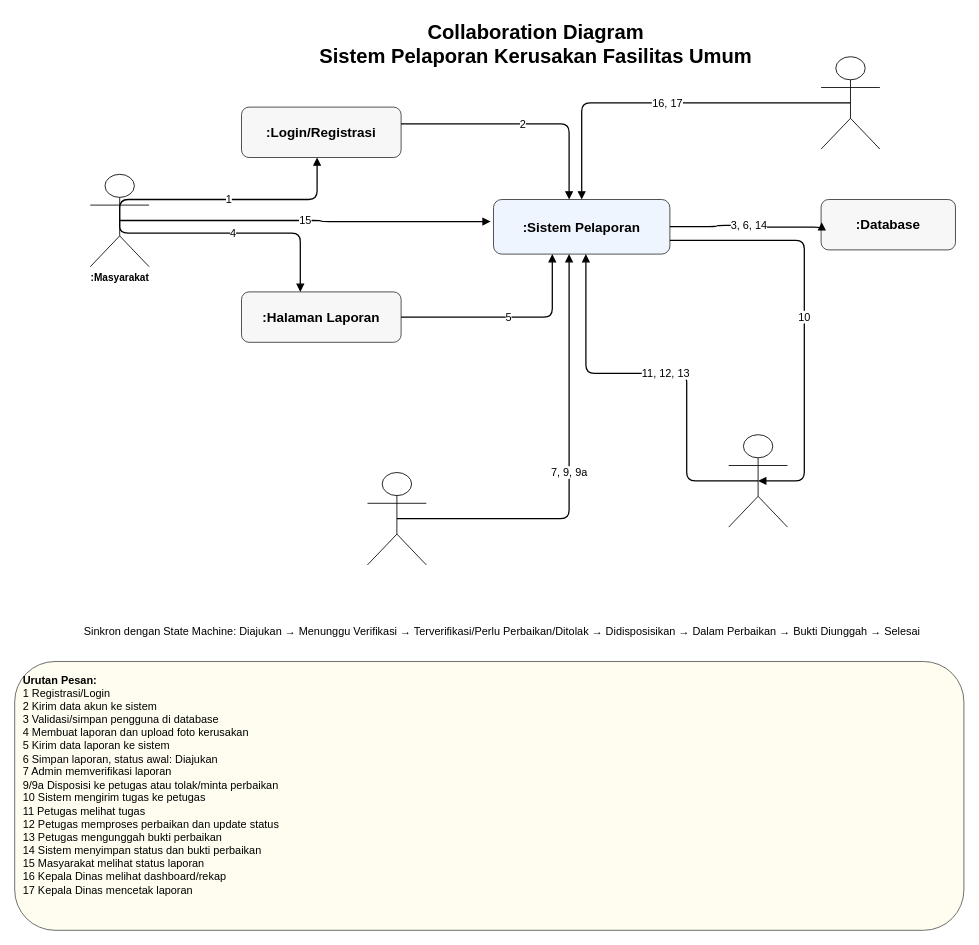
Image size: 979x945. Some labels were removed from this diagram. Here are the shapes that lost their labels. From the top down, the centre of each, then its label:
(850,102): :Kepala Dinas
(758,480): :Petugas Jalanan
(396,518): :Admin
